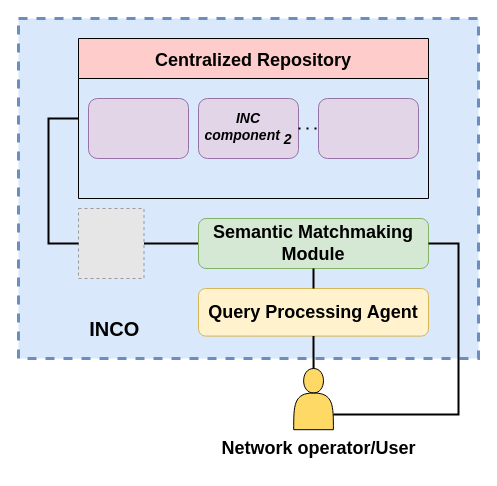
The diagram is 497 pixels wide and 486 high, and some of its shapes have lost their labels. Grey dashed boxes stand in for pictures. The centre of each missing label's shape, as x and y in pixels:
INC component 1: pixel 138 128
INC component N: pixel 368 128
